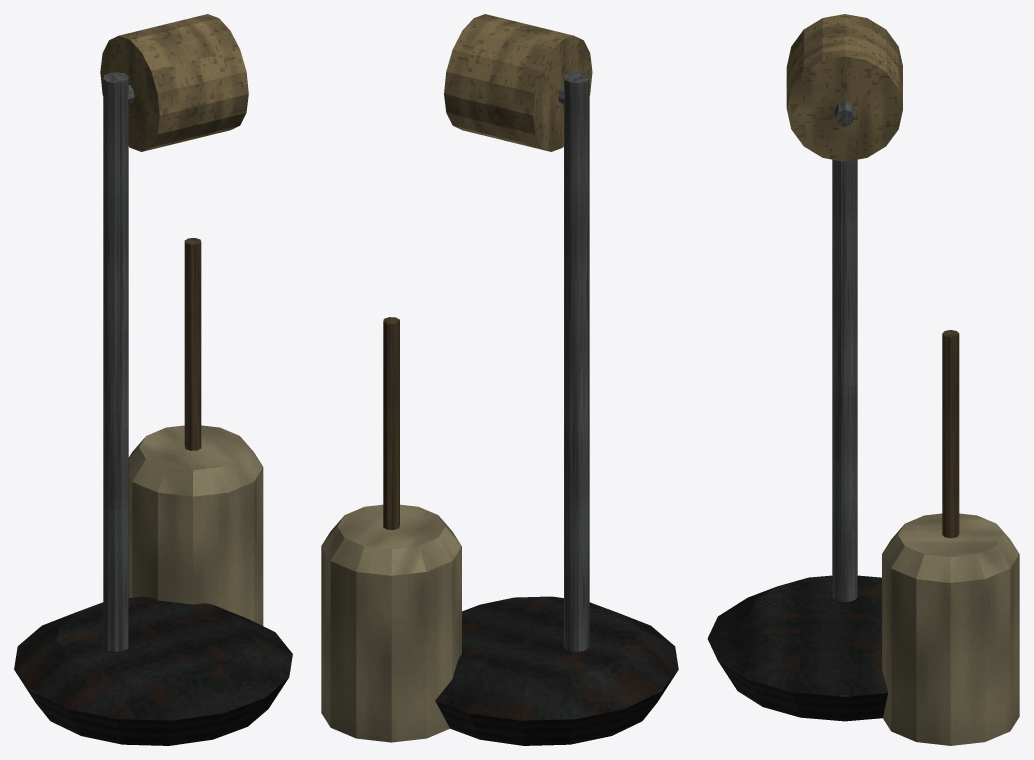
Rendered from level_bathroom_caddy_worn.glb.
3 views of the same model, side by side, from view 1: azimuth 30°, elevation 25°; view 2: azimuth 150°, elevation 25°; view 3: azimuth 270°, elevation 25° (orthographic). The views are drawn at different scales.
Parts seen in each view (by area): view 1: level_bathroom_caddy_worn; view 2: level_bathroom_caddy_worn; view 3: level_bathroom_caddy_worn.
Part boxes in pixels (x1,y1,x2,y2): level_bathroom_caddy_worn: [14, 14, 292, 745]; level_bathroom_caddy_worn: [321, 14, 678, 745]; level_bathroom_caddy_worn: [707, 14, 1019, 745].
Bounding box in the file's own units: 0.295 × 0.675 × 0.295.
Materials: 5 (5 with a texture image).
